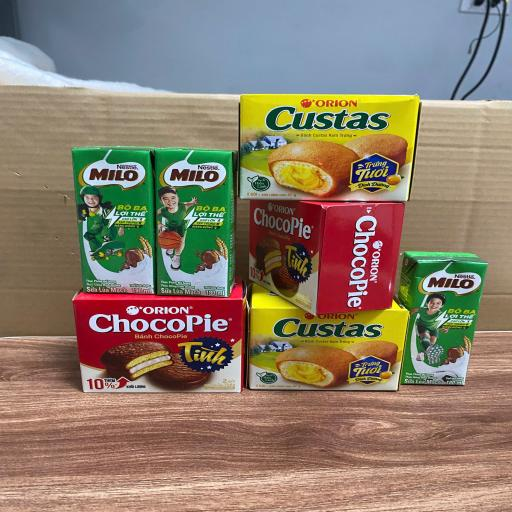chocopie: (72, 276, 248, 394), (248, 200, 406, 316)
custas: (237, 93, 422, 203), (246, 280, 410, 391)
milo: (152, 146, 238, 298), (394, 250, 488, 386), (72, 145, 156, 295)
